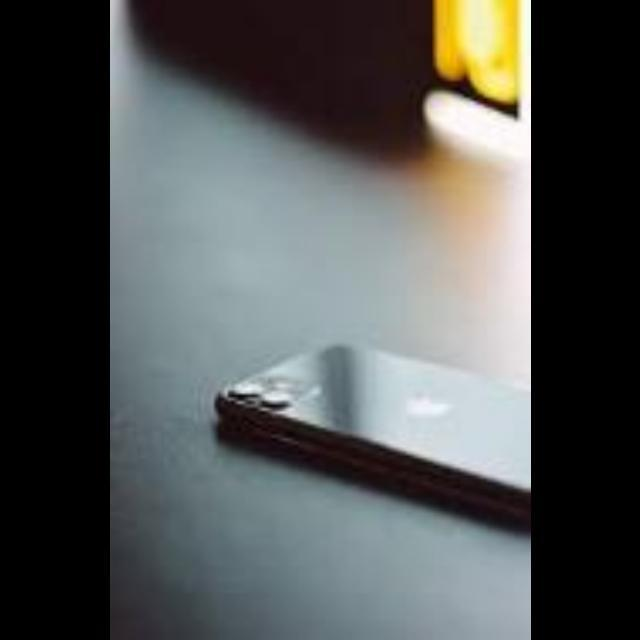Phone: (206, 327, 530, 576)
